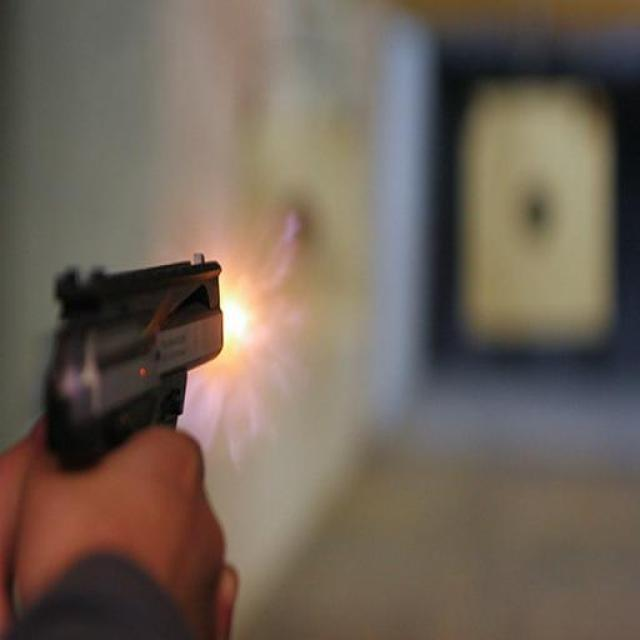pistol: (41, 244, 222, 478)
